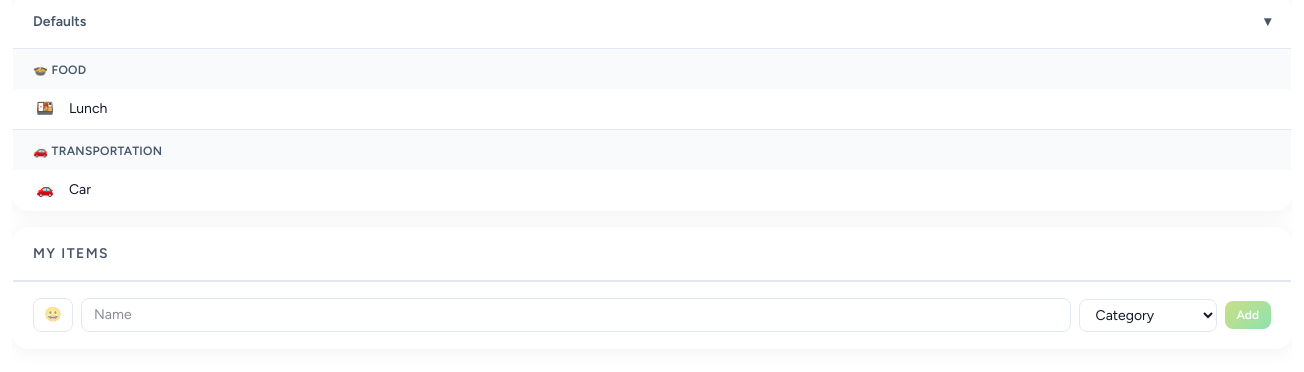
SubcategoriesTab — add › rejects duplicate within same parent
Select "Food" in the dropdown named "category". click: [1148, 315]
box: [1078,298,1216,332]
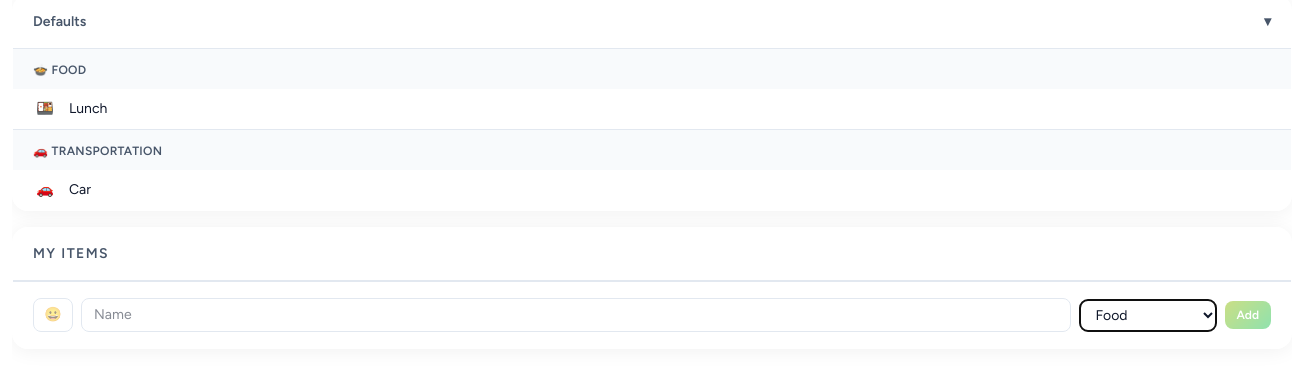
Type "Lunch" into the field labelled "Name". click: [576, 315]
box: [81,298,1070,332]
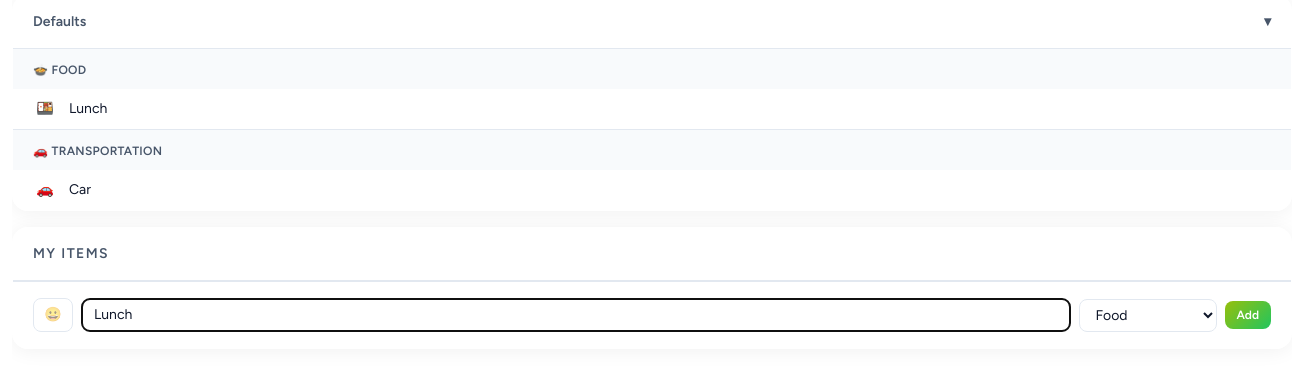
Click the button "Add". click: [1248, 315]
box: [1224,301,1271,329]
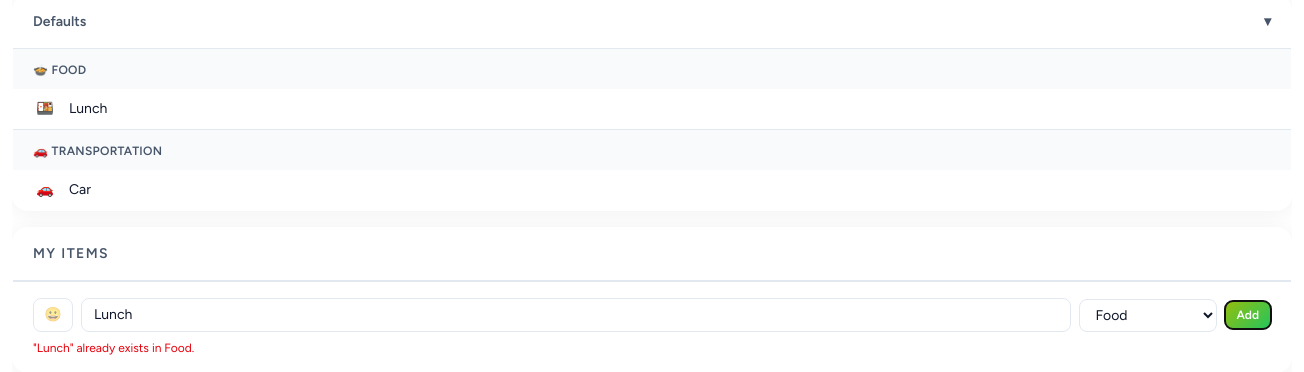
Now the text "\"Lunch\" already exists in Food." is shown, box [33,341,194,355]
